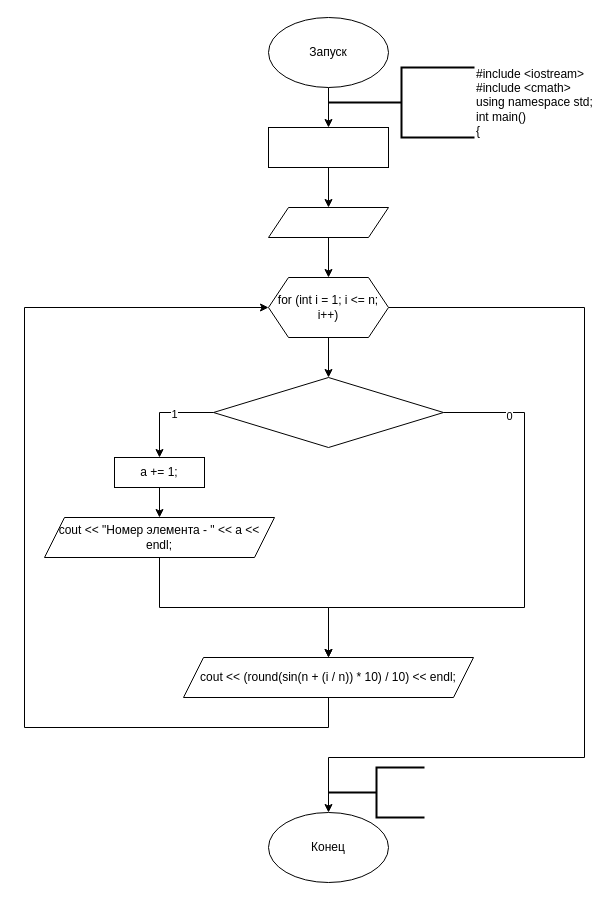
This 611x900 diagram has some shape labels left out. Here are the shapes that lost their labels. From the top down, the box of each, then its label:
(268, 126, 388, 168): float n, z, a; a = 0;
(268, 206, 388, 238): cin >> n >> z;
(212, 376, 444, 448): if (z == (round(sin(n + (i / n)) * 10)/10))
(327, 766, 425, 818): return 0; }
